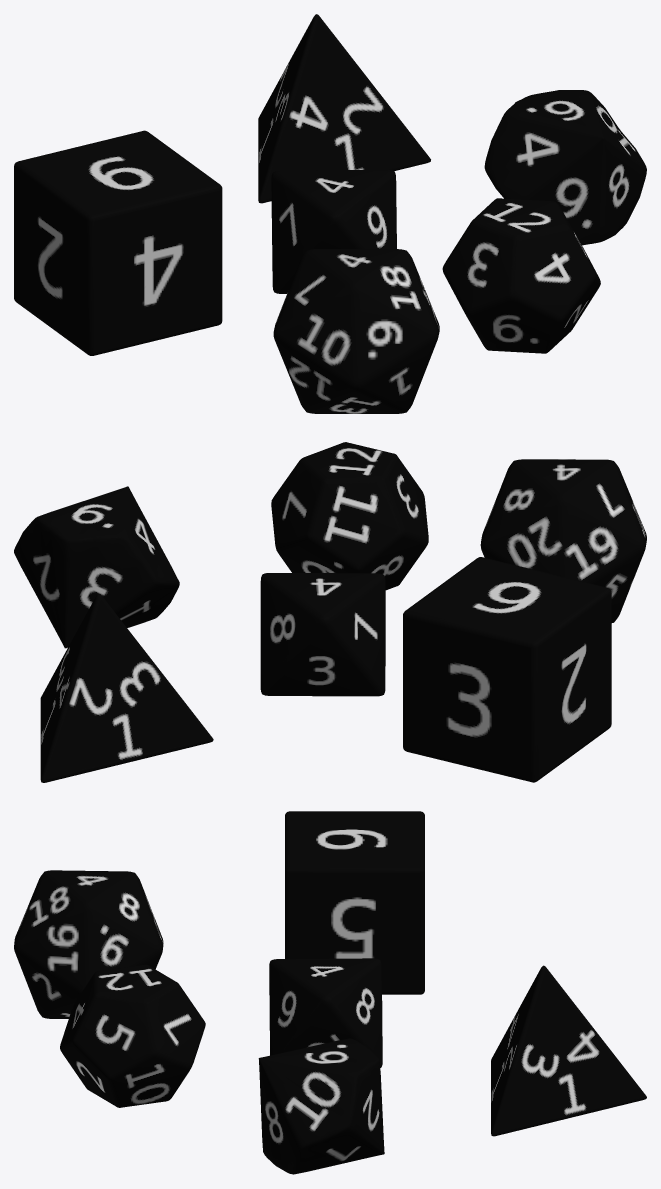
The model's file is dice_set.glb.
3 views of the same model, one above another, from view 1: azimuth 30°, elevation 25°; view 2: azimuth 150°, elevation 25°; view 3: azimuth 270°, elevation 25° (orthographic). The views are drawn at different scales.
Parts seen in each view (by area): view 1: d6, d20, d12, d10, d4, d8; view 2: d6, d4, d12, d20, d10, d8; view 3: d6, d12, d20, d4, d10, d8.
Part boxes in pixels (<box>): d6: <box>14,130,222,355</box>; d20: <box>273,249,439,413</box>; d12: <box>442,198,600,353</box>; d10: <box>484,90,646,245</box>; d4: <box>258,14,430,203</box>; d8: <box>271,169,396,293</box>; d6: <box>403,557,611,782</box>; d4: <box>40,593,213,782</box>; d12: <box>271,442,428,590</box>; d20: <box>480,459,646,622</box>; d10: <box>14,486,179,648</box>; d8: <box>260,573,385,696</box>; d6: <box>285,811,424,994</box>; d12: <box>60,964,205,1107</box>; d20: <box>14,870,163,1018</box>; d4: <box>491,965,646,1136</box>; d10: <box>258,1038,384,1174</box>; d8: <box>269,958,382,1067</box>.
Size of the model in its own units: 7.6 by 1.94 by 8.12.
1 material, 1 textured.
